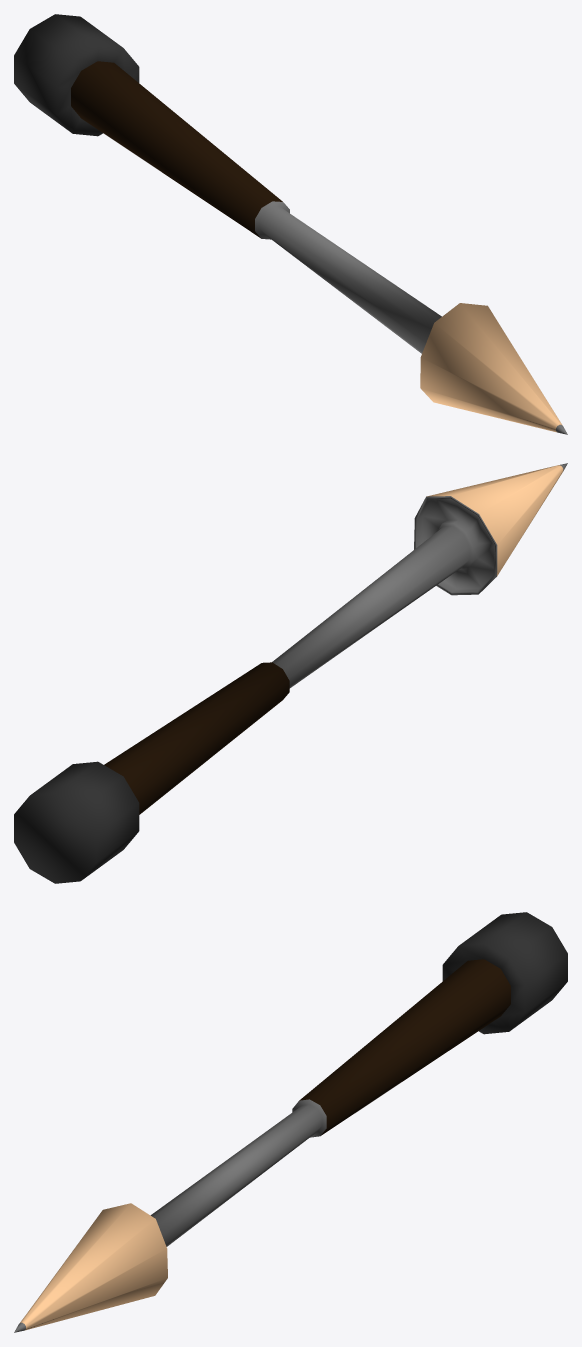
The model's file is WallSpear.fbx.
3 renders of one model, top to bottom at view 1: azimuth 30°, elevation 25°; view 2: azimuth 150°, elevation 25°; view 3: azimuth 330°, elevation 25°, orthographic.
Parts seen in each view (by area): view 1: Spear, Base; view 2: Spear, Base; view 3: Spear, Base.
Part boxes in pixels (bbox=[...]): Spear: bbox=[71, 61, 567, 434]; Base: bbox=[14, 14, 139, 136]; Spear: bbox=[104, 463, 567, 814]; Base: bbox=[14, 761, 139, 883]; Spear: bbox=[14, 959, 510, 1332]; Base: bbox=[442, 912, 567, 1034].
Size of the model in its own units: 2.01 by 2.21 by 21.05.
